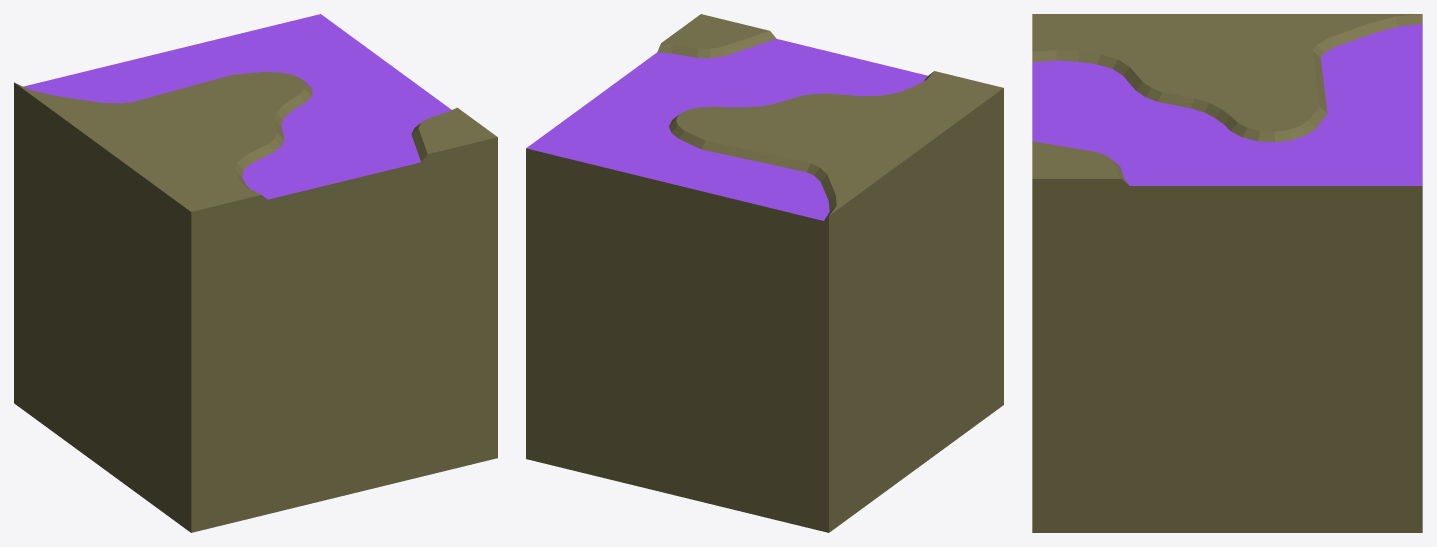
The model's file is tile_toxic_5c_01.fbx.
The picture shows the model from 3 angles, left to right: view 1: azimuth 30°, elevation 25°; view 2: azimuth 150°, elevation 25°; view 3: azimuth 270°, elevation 25°; orthographic projection. The views are drawn at different scales.
Visible parts, largest first — view 1: tile_toxic_5c_01; view 2: tile_toxic_5c_01; view 3: tile_toxic_5c_01.
Boxes of the visible parts, box(x1,y1,x2,y2) form: tile_toxic_5c_01: box(14, 14, 497, 532); tile_toxic_5c_01: box(526, 14, 1003, 532); tile_toxic_5c_01: box(1032, 14, 1422, 532).
Bounding box in the file's own units: 100 × 100 × 100.
